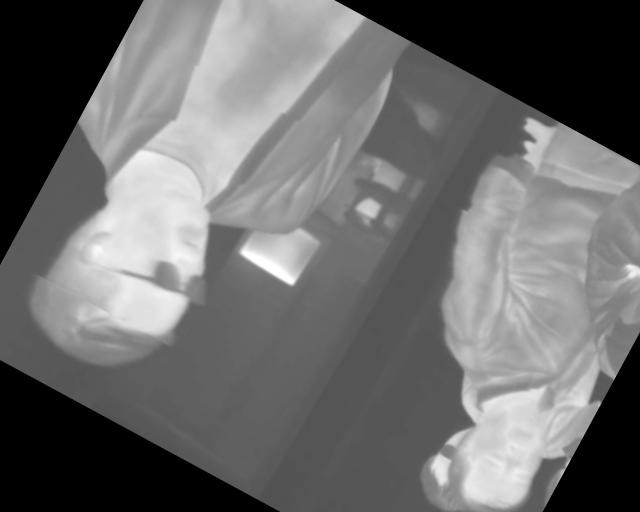face: (7, 151, 239, 399), (432, 385, 566, 512)
